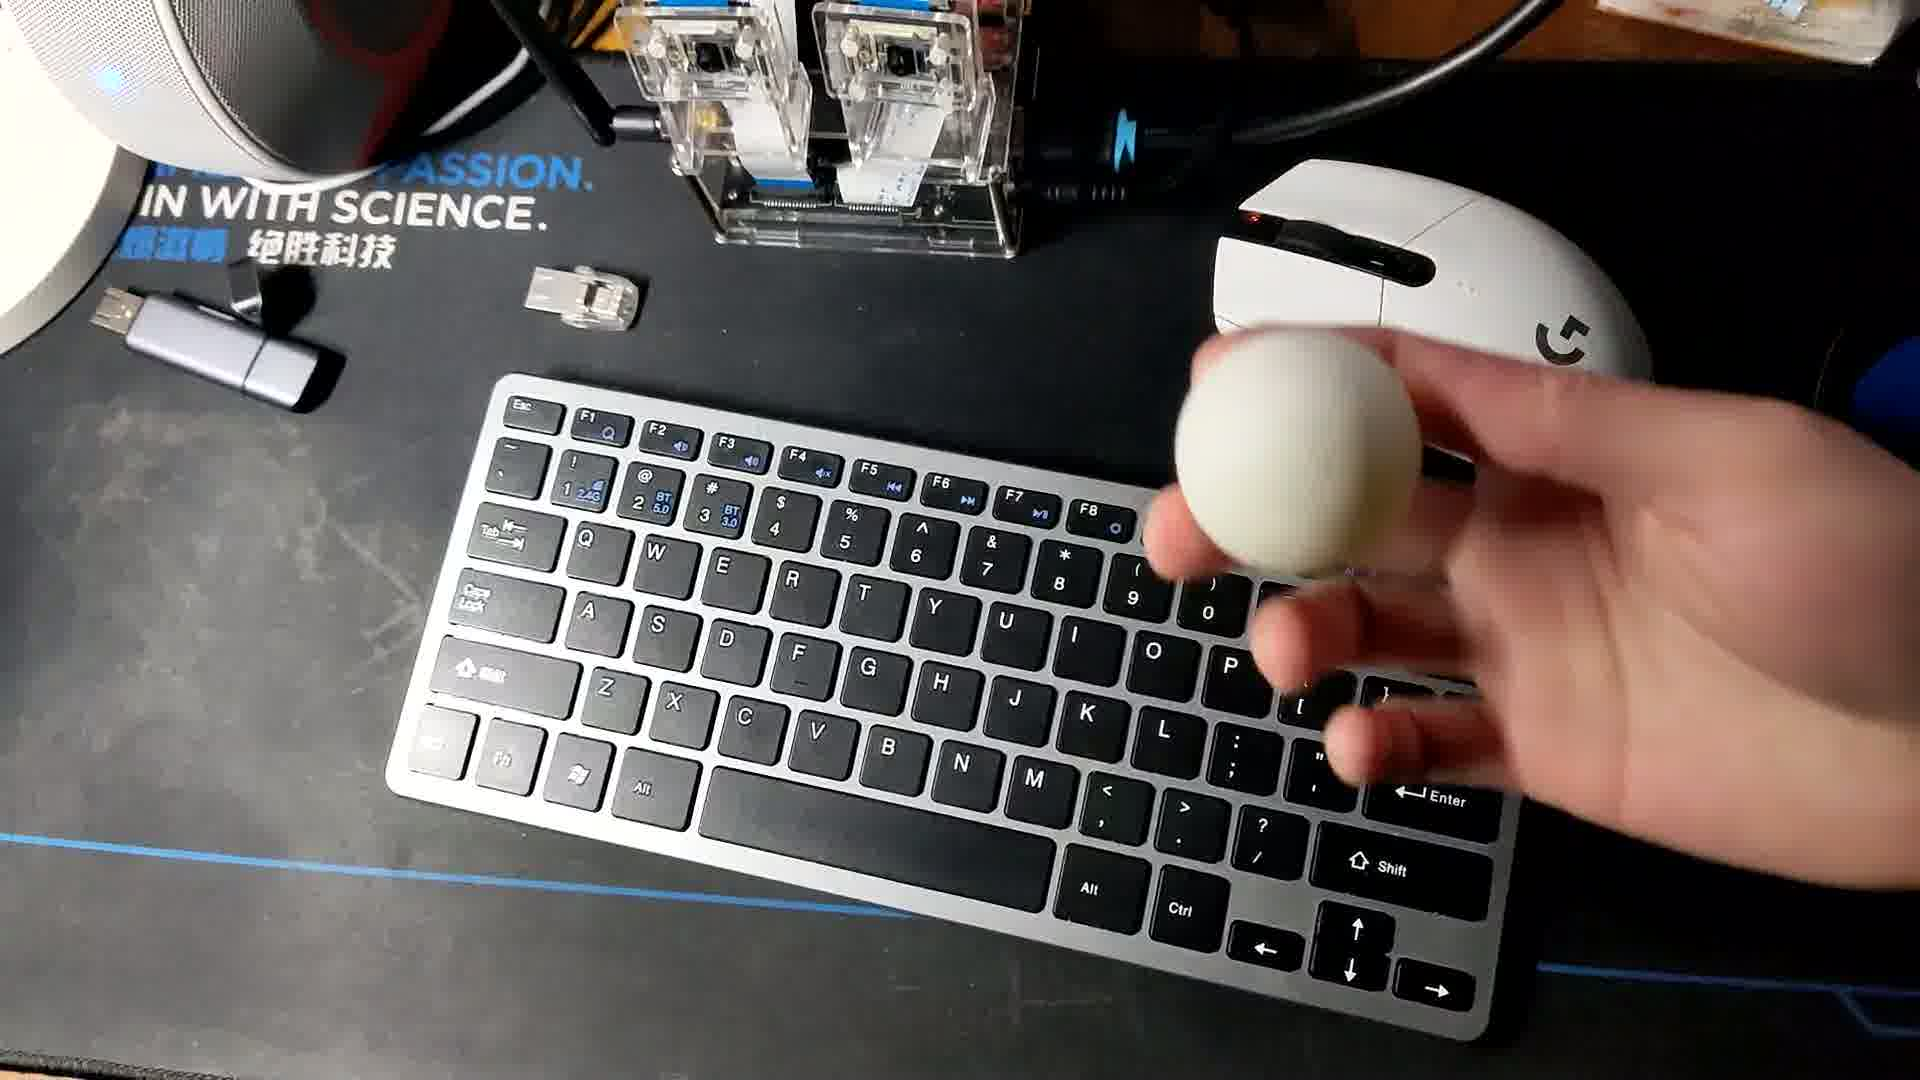Ball: (1182, 342, 1408, 589)
